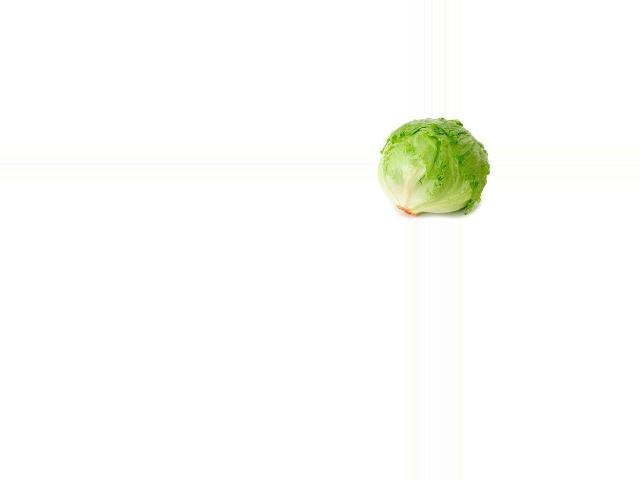lettuce: (384, 117, 488, 213)
